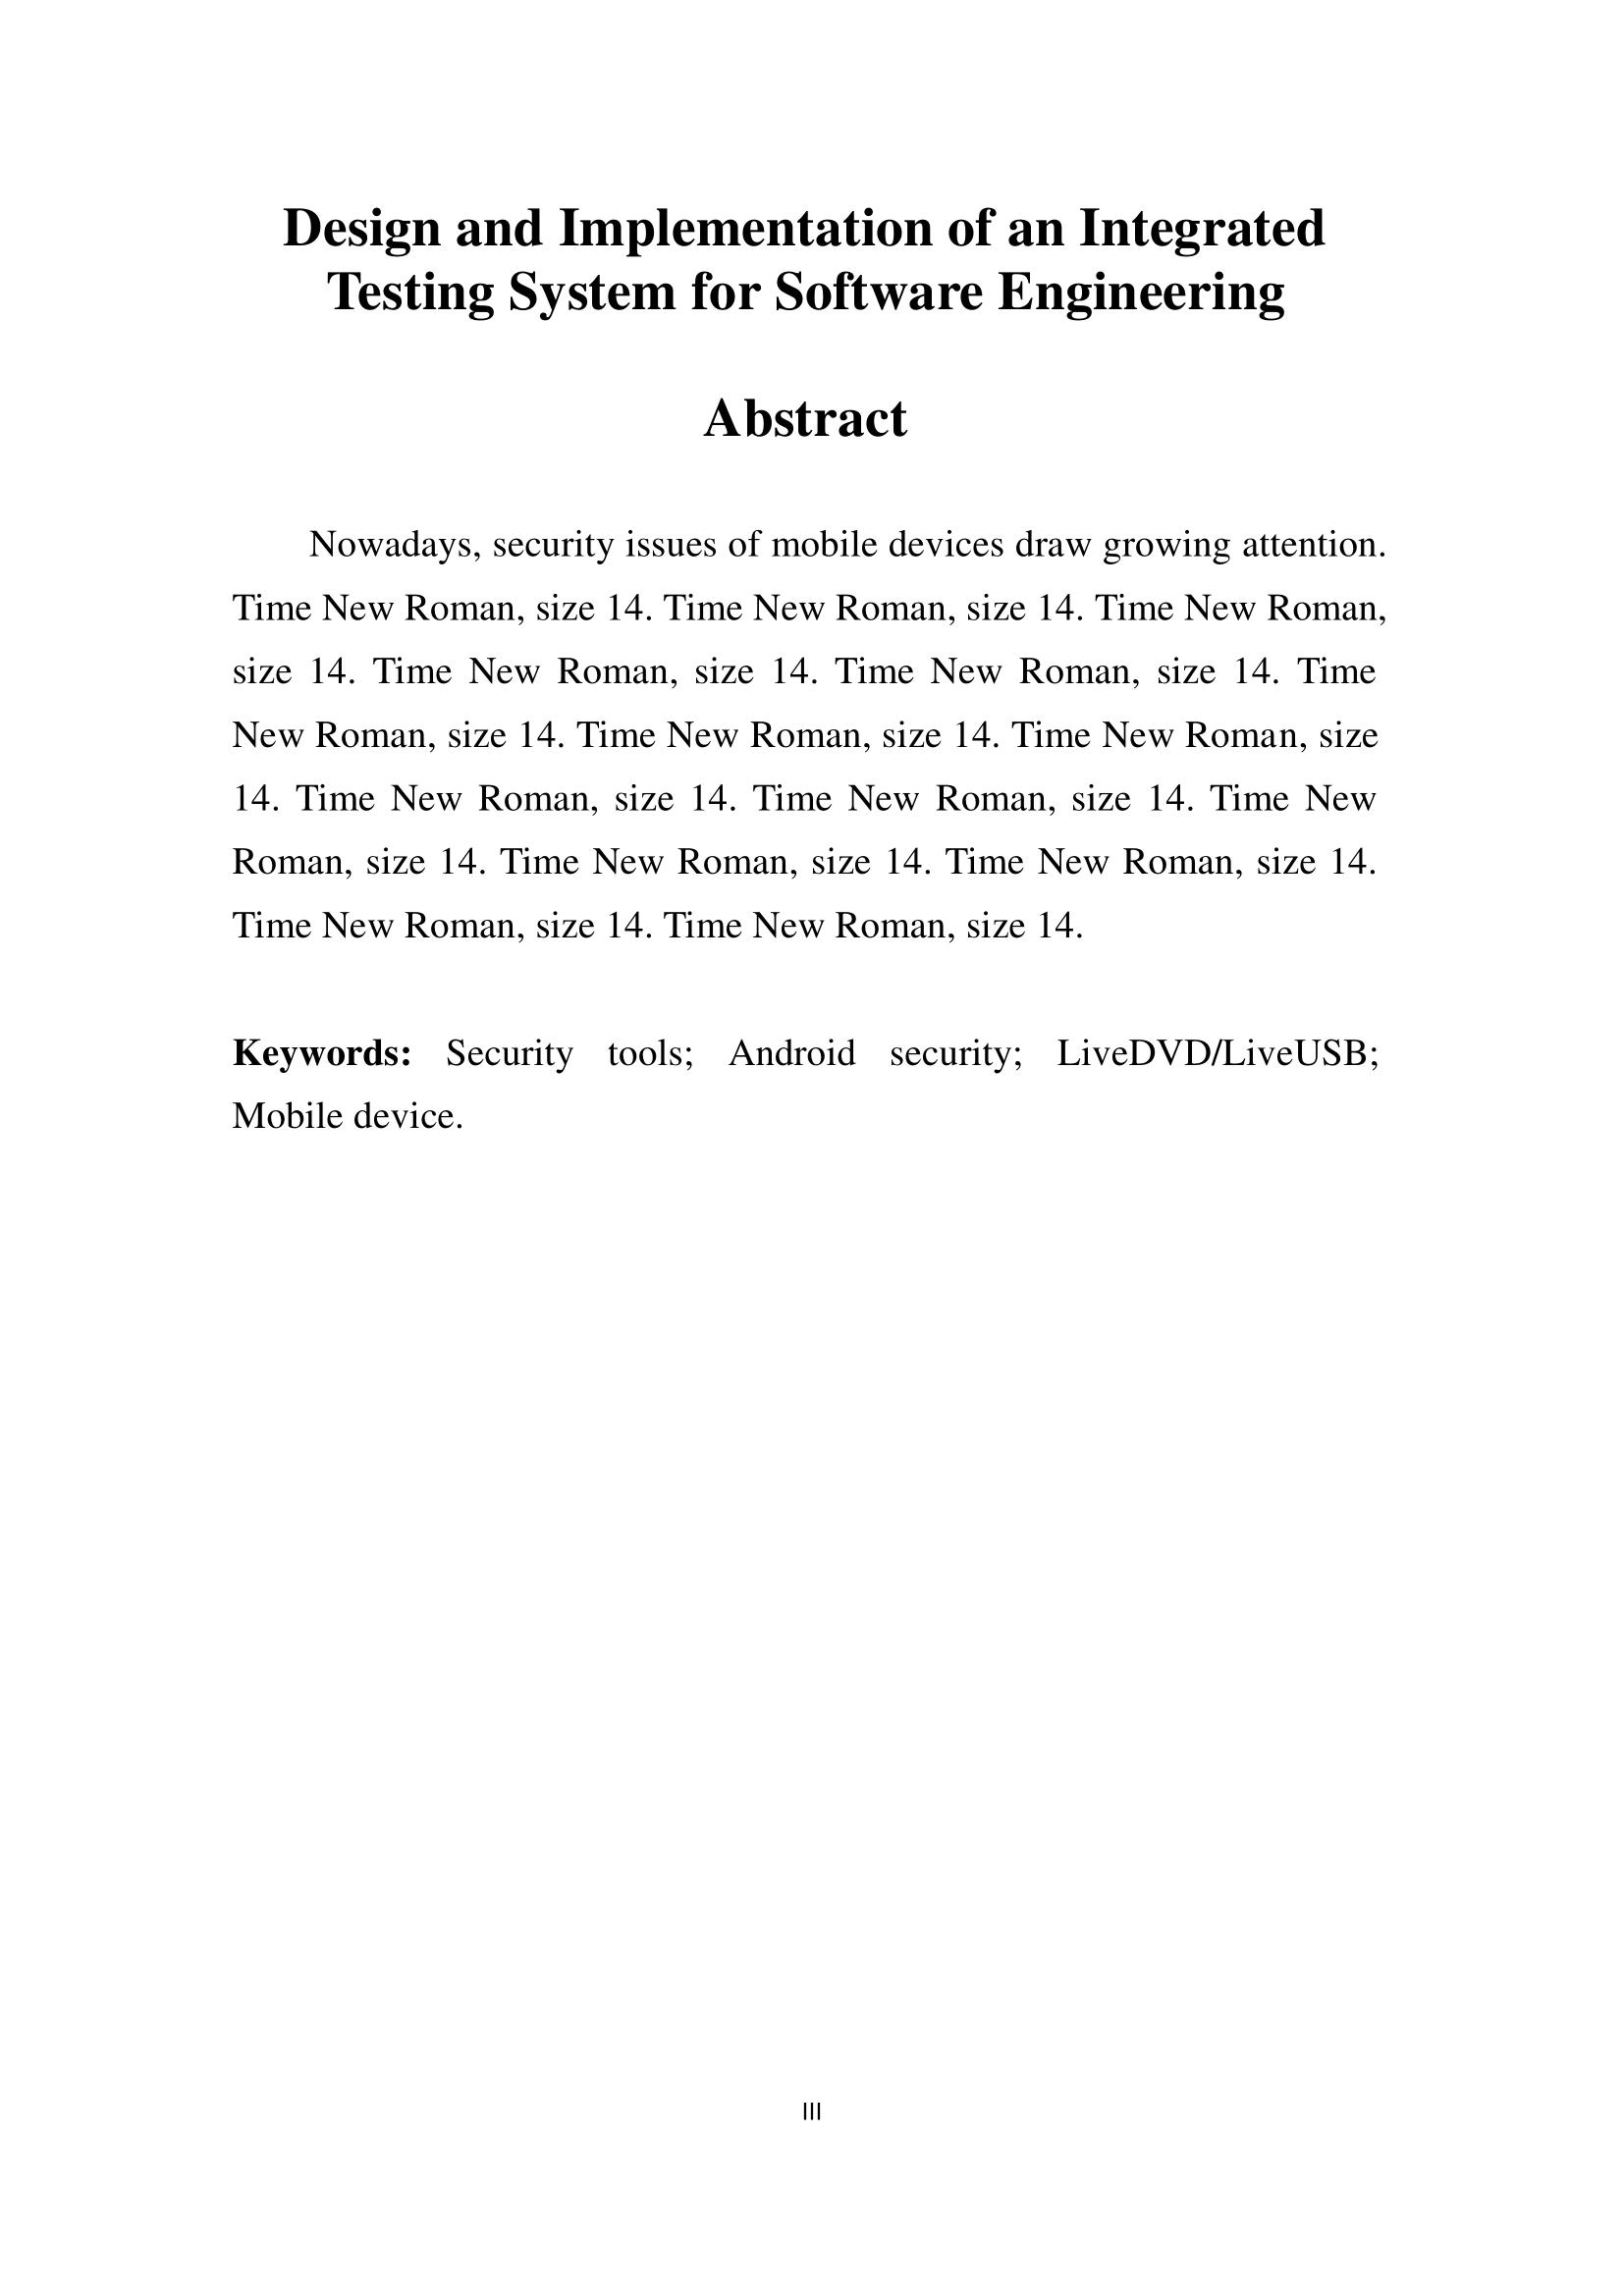text: (209, 520, 1403, 961), (220, 1017, 1397, 1152), (265, 195, 1353, 330), (678, 383, 923, 455)
